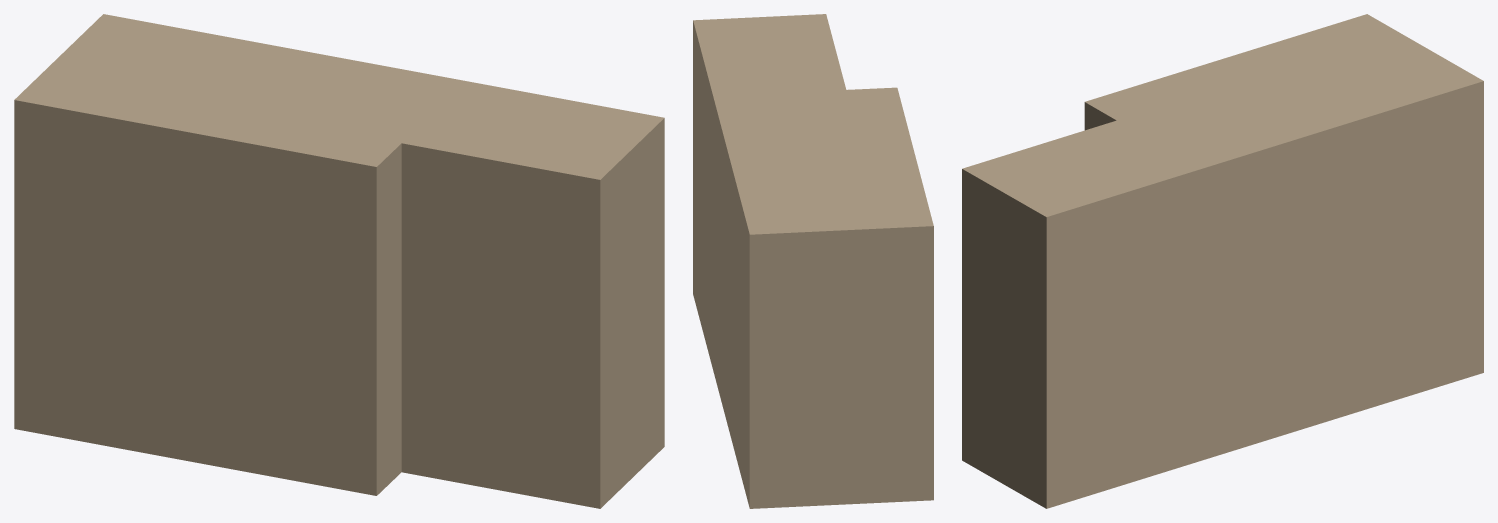
The model's file is bld_101805908.dae.
The picture shows the model from 3 angles, left to right: view 1: azimuth 30°, elevation 25°; view 2: azimuth 150°, elevation 25°; view 3: azimuth 270°, elevation 25°; orthographic projection. The views are drawn at different scales.
Visible parts, largest first — view 1: bld_101805908; view 2: bld_101805908; view 3: bld_101805908.
Part boxes in pixels (x1,y1,x2,y2): bld_101805908: (14, 14, 664, 508); bld_101805908: (693, 14, 933, 508); bld_101805908: (962, 14, 1483, 508).
Bounding box in the file's own units: 11.95 × 12.97 × 8.
